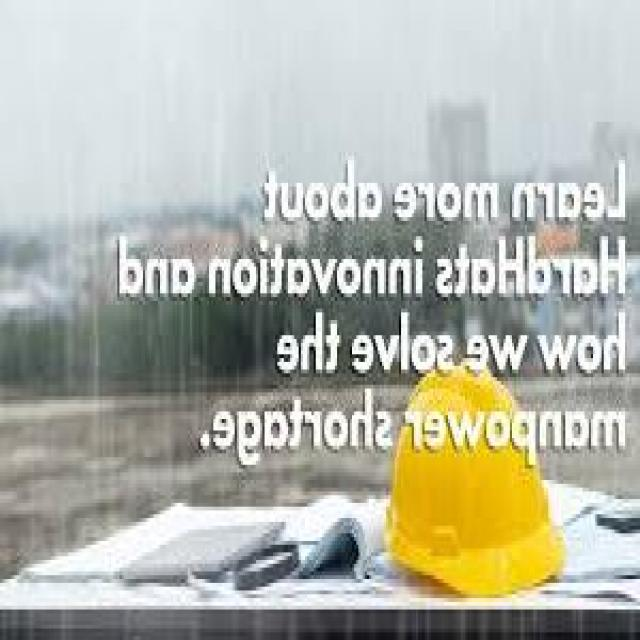Safety-Helmet: (375, 346, 574, 610)
